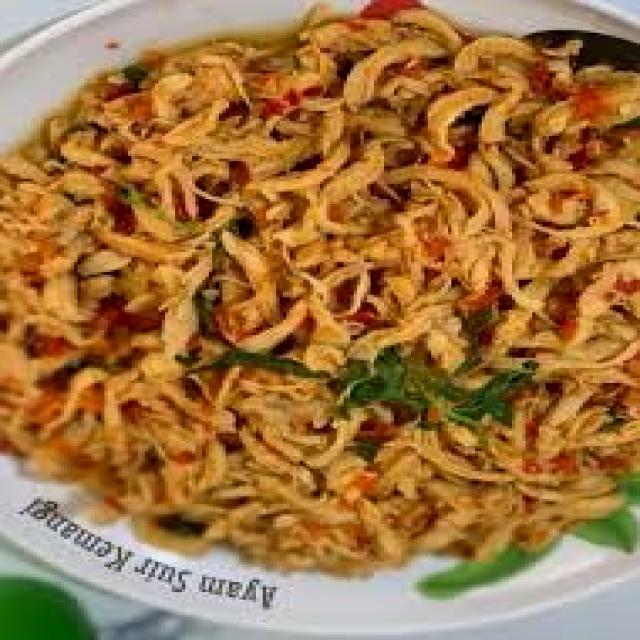ayam_suwir: (0, 15, 640, 580)
